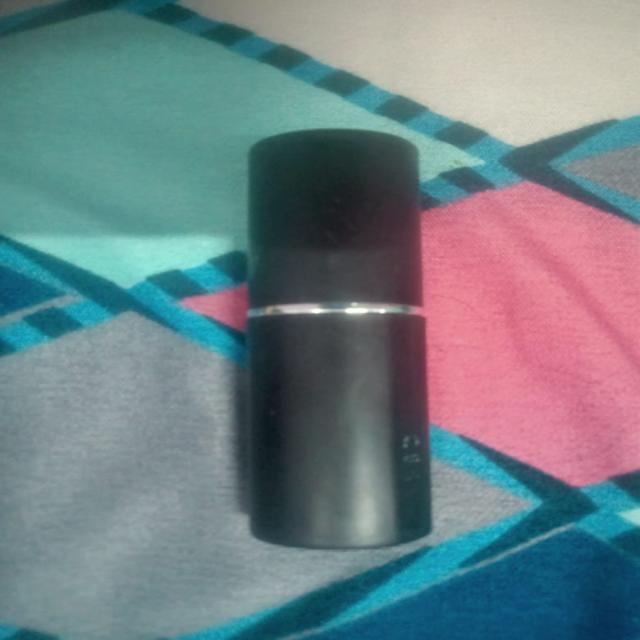lip stick: (237, 120, 451, 600)
